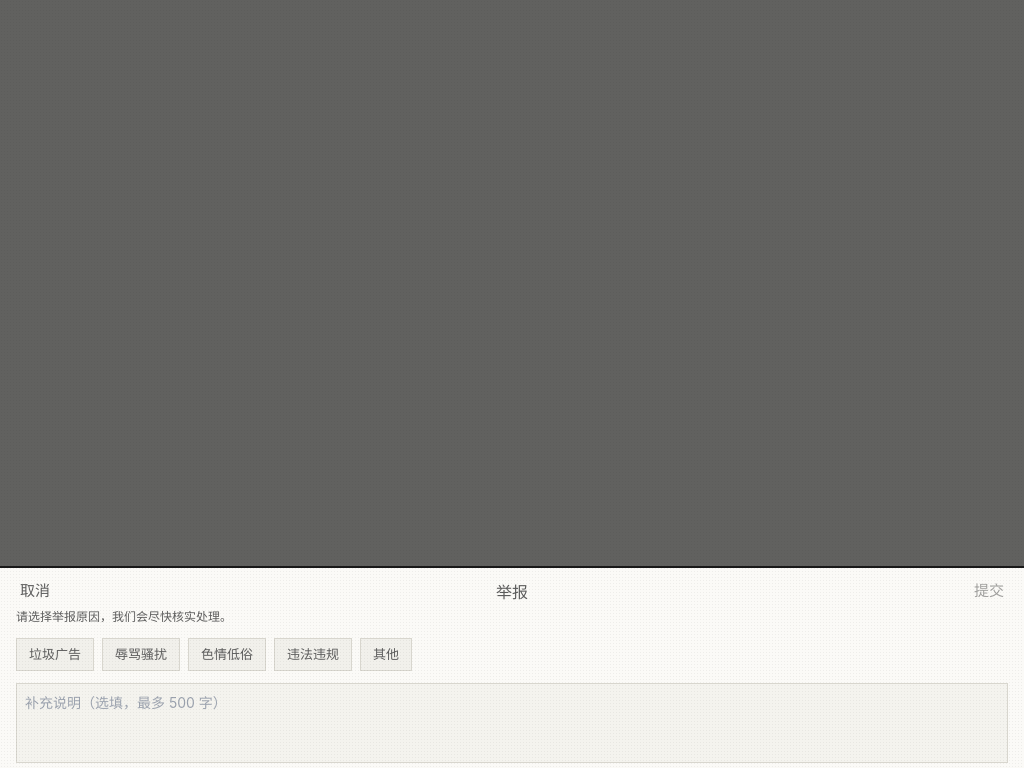
Scenario: ReportSheet › 未选原因时不能提交
Expected: the button with test id "report-submit" is disabled, [970,580,1008,603]
Click the button with test id "report-reason-spam" at (55, 654), box [16,638,94,671]
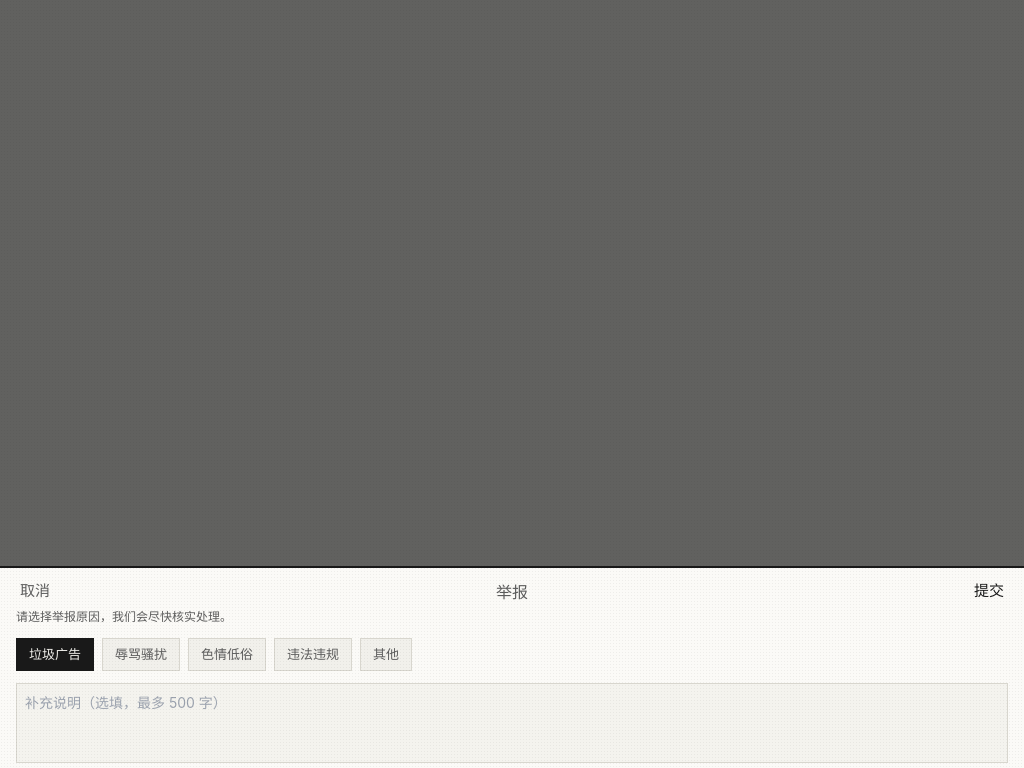
Result: the button with test id "report-submit" is enabled at [970,580,1008,603]
